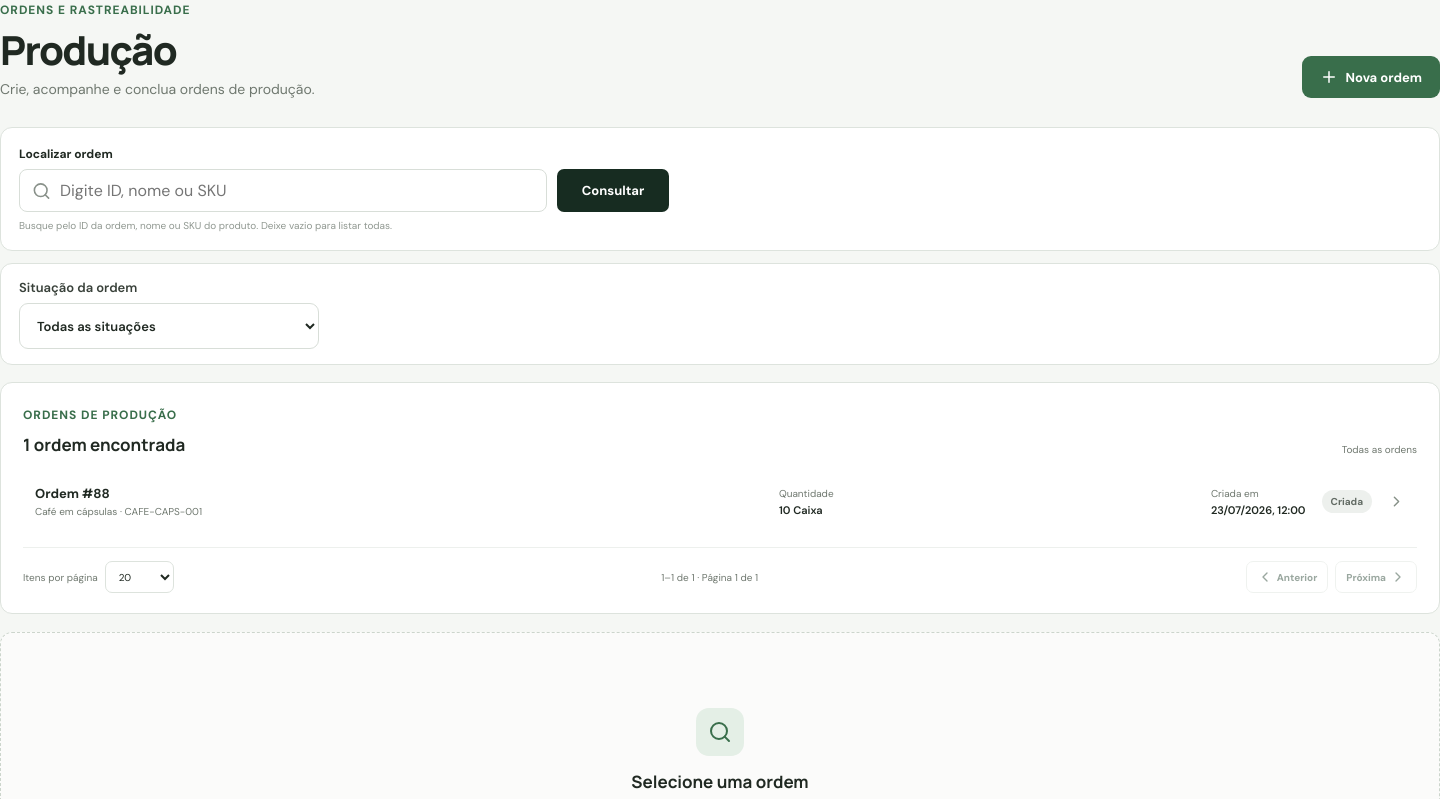
Test case: ProductionPage › lets an administrator review a safe cancellation confirmation
The image size is (1440, 799).
Check: the button "Nova ordem" is shown, box [1302,56,1439,98]
Type "88" into the search field labelled "Localizar ordem" at (283, 190), box [19,169,547,212]
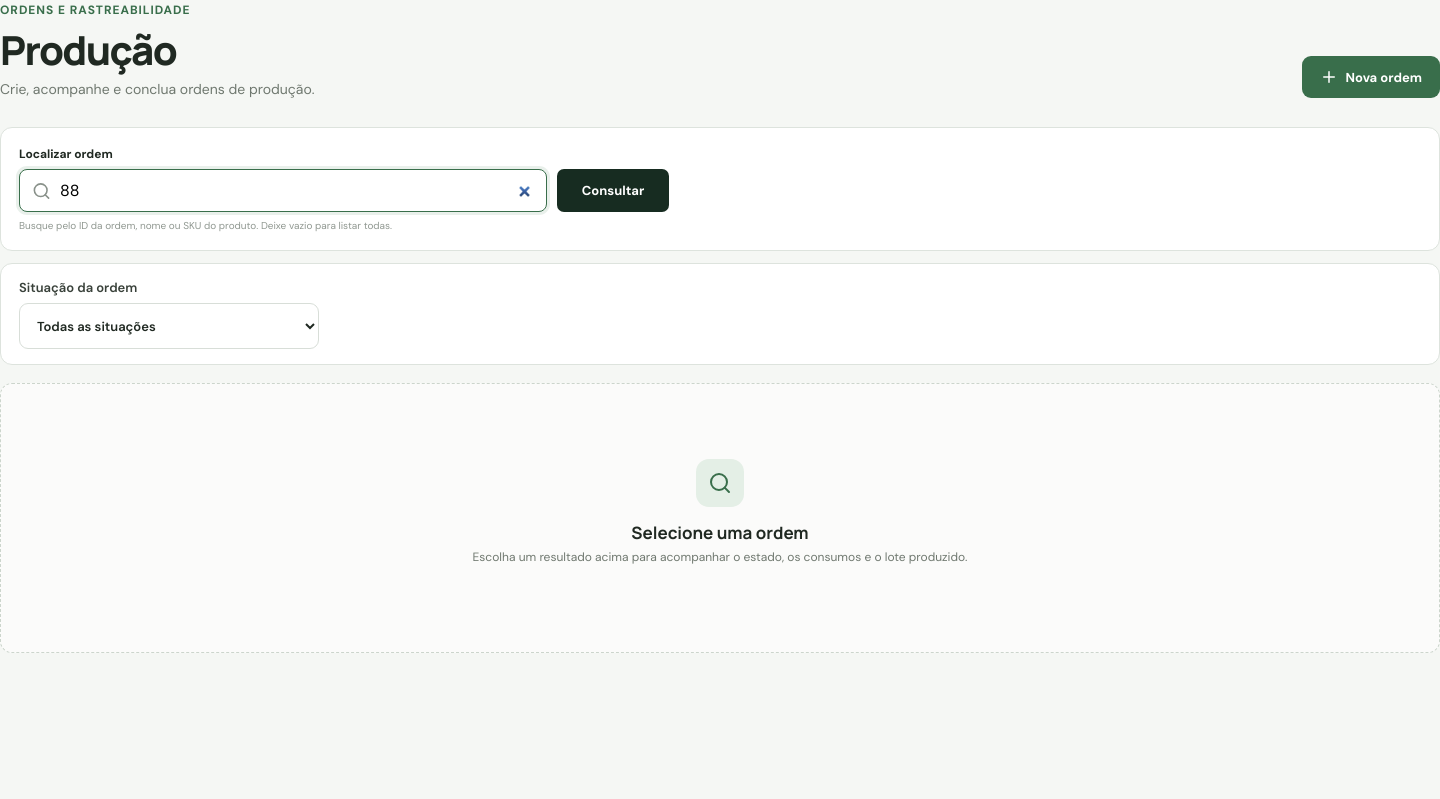
Click the button "Consultar" at (613, 190), box [557,169,669,212]
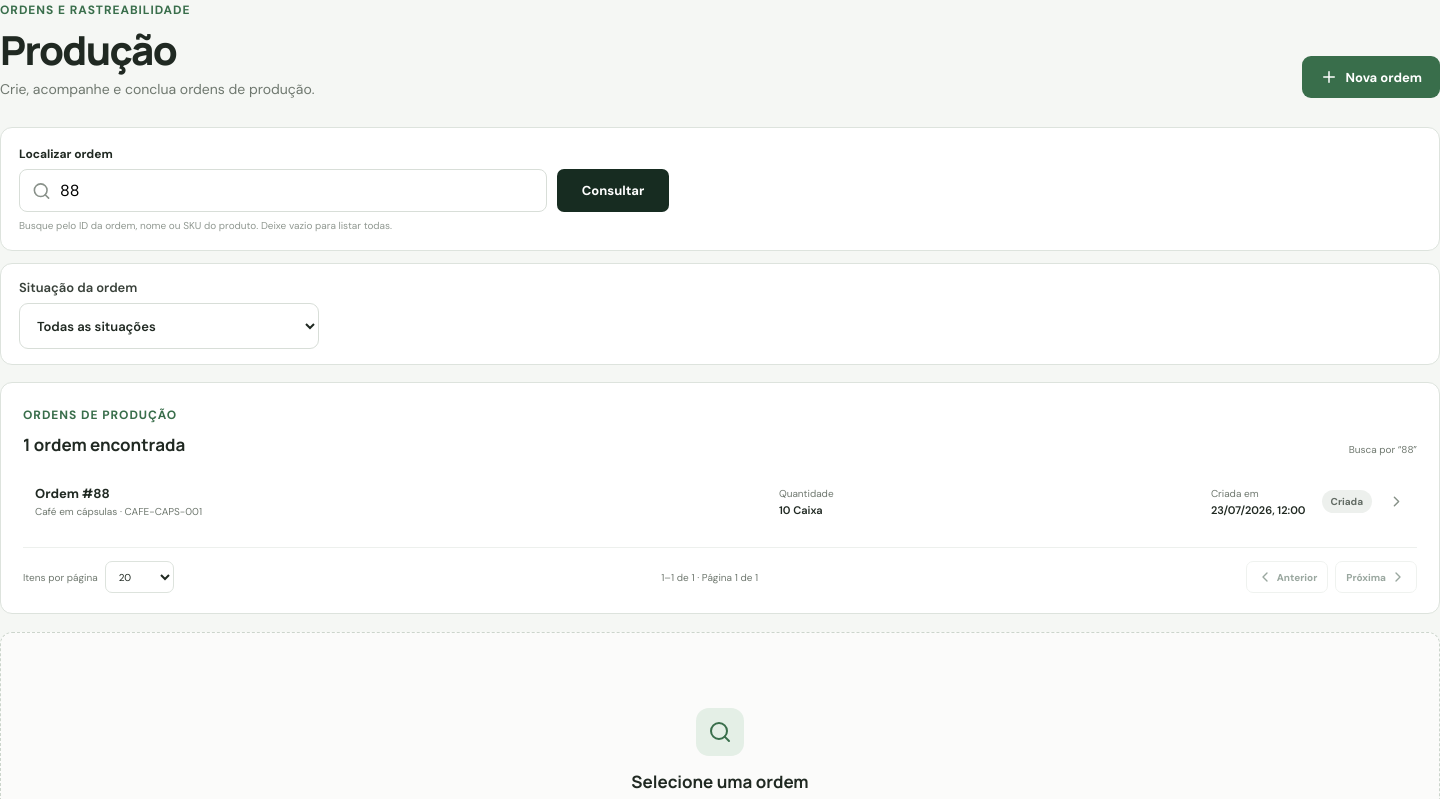
Click the button "Ordem #88" at (64, 494), box [23,469,1417,534]
(page scrolled)
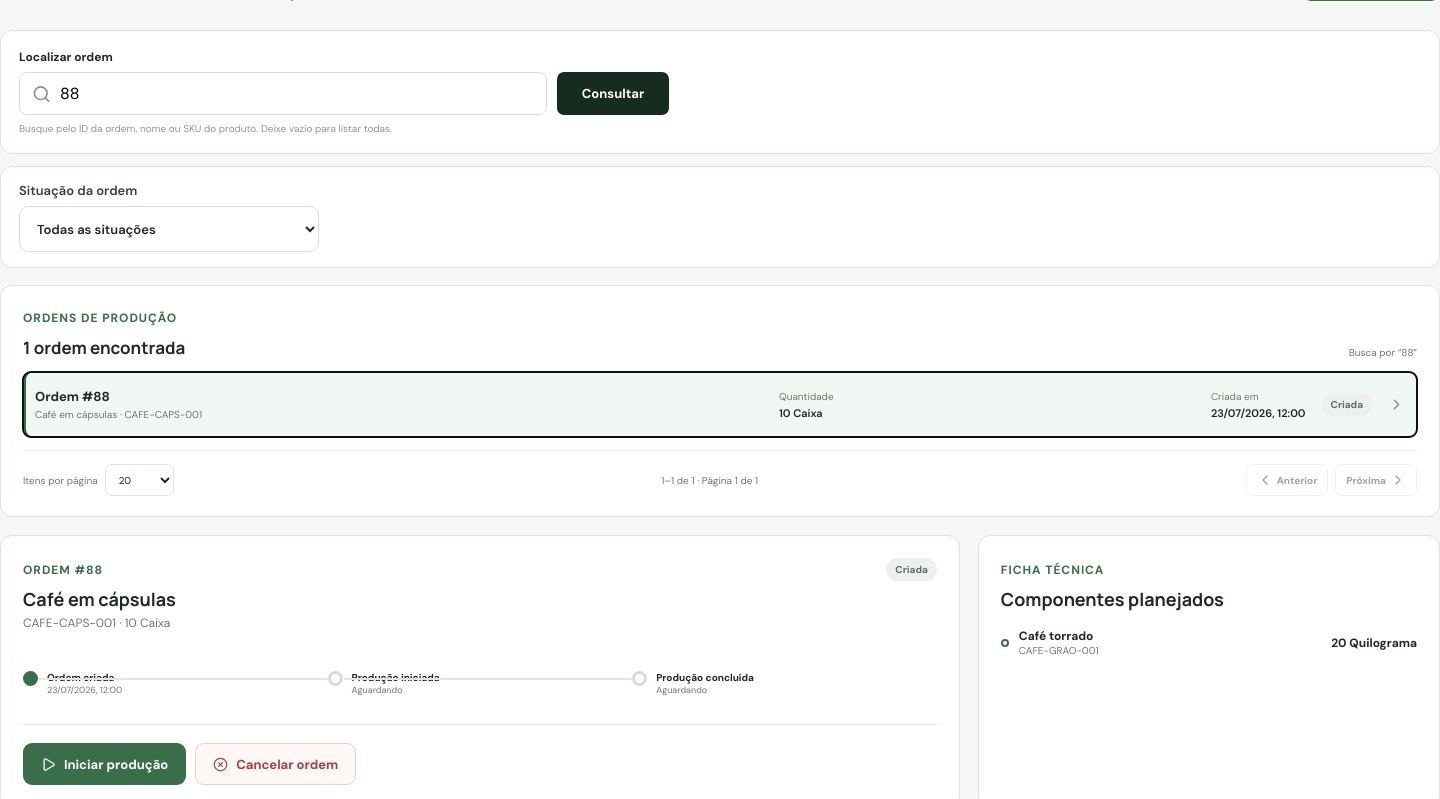
Check: the heading "Café em cápsulas" is shown, box [23,588,176,611]
Check: the text "Café torrado" is shown, box [1019,628,1093,644]
Check: the button "Iniciar produção" is shown, box [23,743,186,785]
Click the button "Cancelar ordem" at (276, 764), box [195,743,356,785]
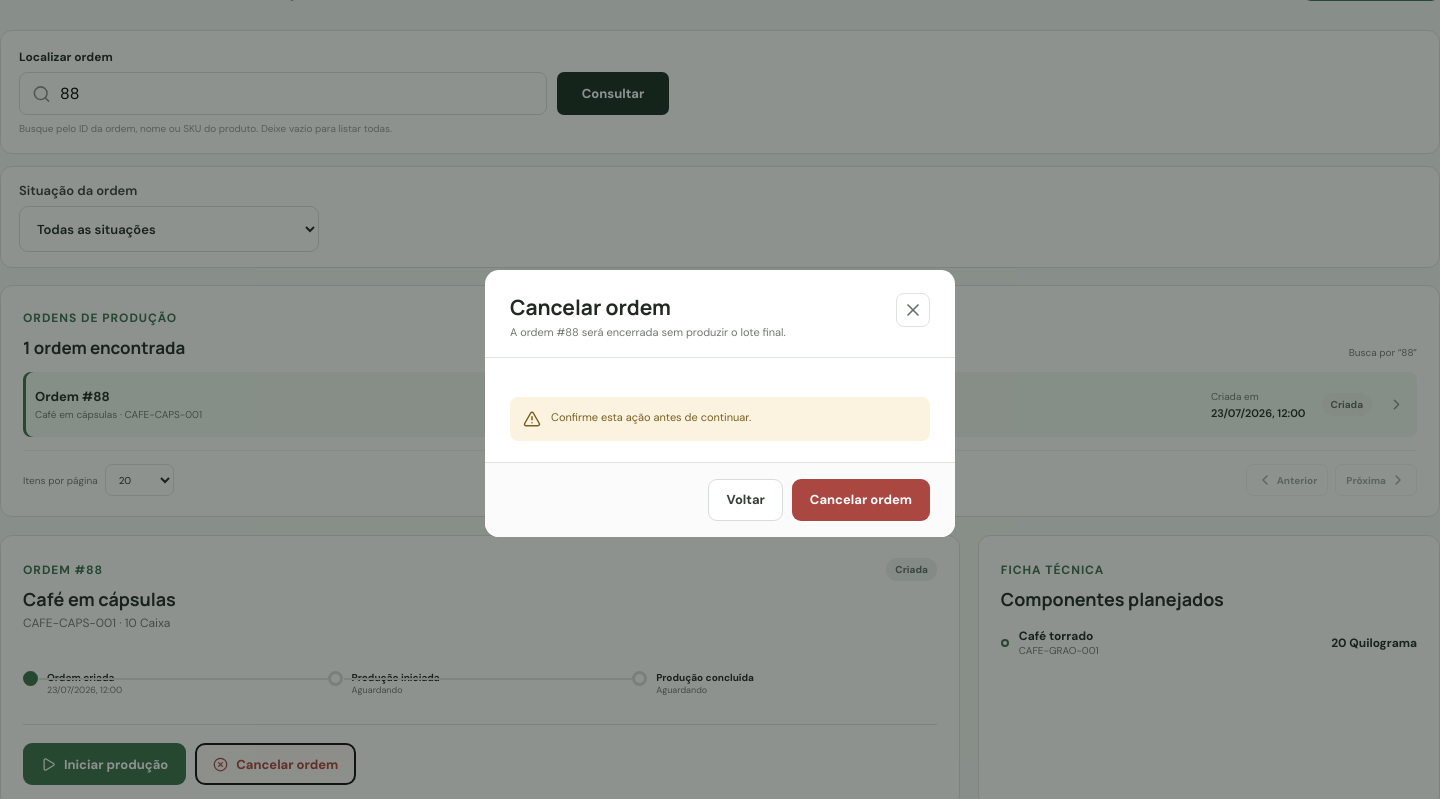
Check: the heading "Cancelar ordem" is shown, box [510,292,671,320]
Check: the text "A ordem #88 será encerrada sem produzir o lote final." is shown, box [510,324,786,338]
Check: the number of buttons "Cancelar ordem" is 2, box [195,743,356,785]; [792,478,930,520]
